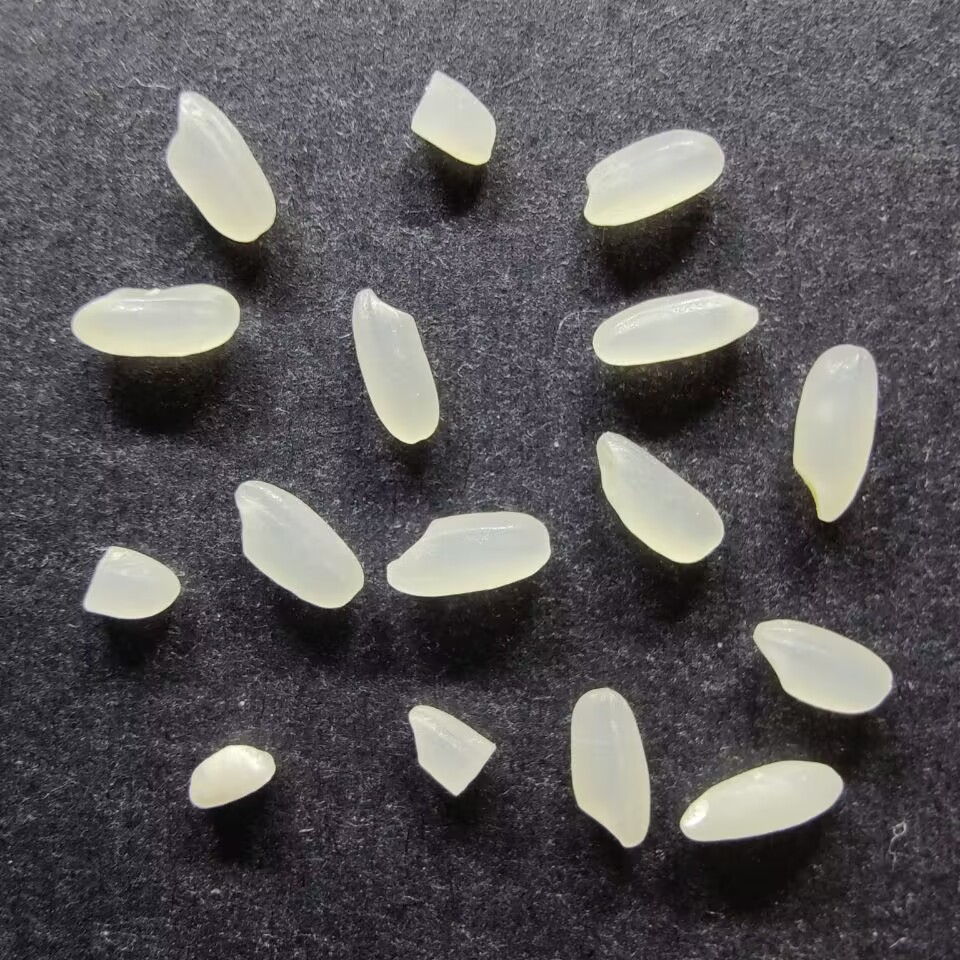broken: (406, 702, 498, 797), (407, 69, 497, 166), (77, 544, 183, 621), (185, 743, 278, 811)
rice: (594, 427, 727, 566), (162, 88, 280, 242), (231, 479, 365, 611), (789, 343, 881, 524), (384, 508, 551, 598), (349, 286, 444, 444), (677, 758, 844, 844), (749, 617, 894, 716), (580, 129, 725, 227), (567, 685, 652, 851), (589, 286, 760, 367), (67, 281, 242, 358)
